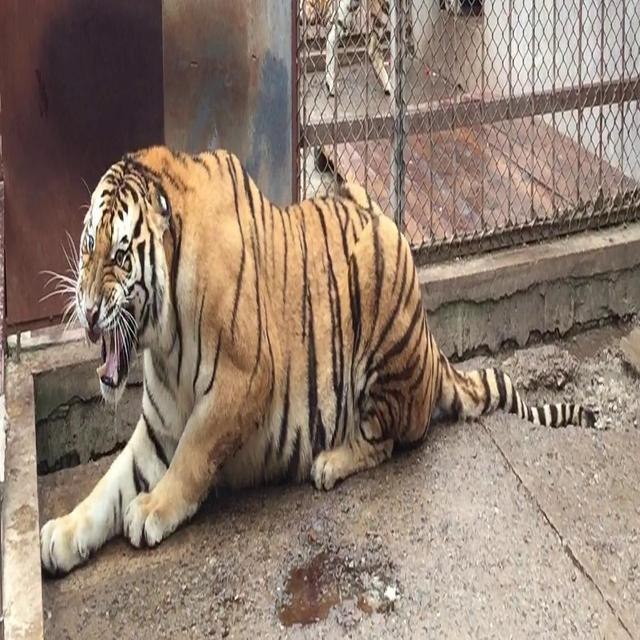tiger: (36, 142, 600, 577), (321, 0, 394, 98)
